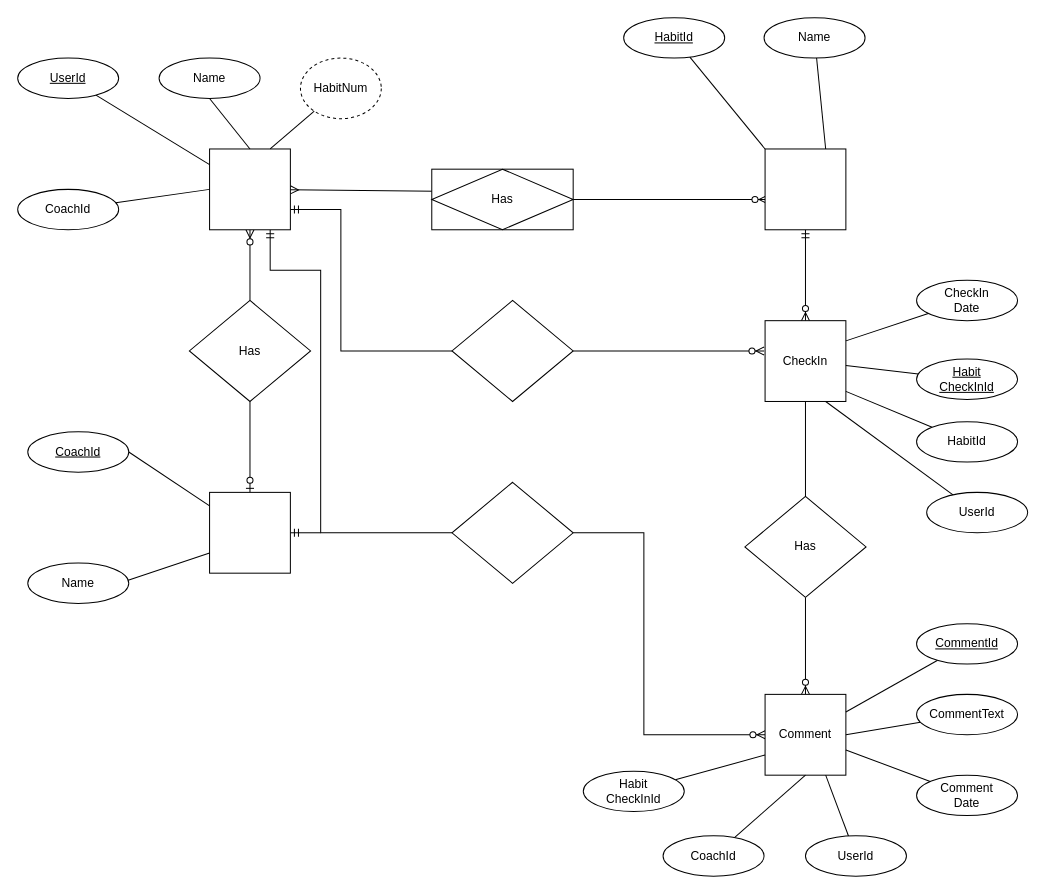
Image size: 1045x894. Some labels were removed from this diagram. The shapes that lost their labels are listed below. From the top down, each one's centre as x and y in pixels, then its label:
pixel 249 189: User
pixel 805 189: Habit
pixel 512 350: Does
pixel 249 532: Coach
pixel 512 532: Writes
